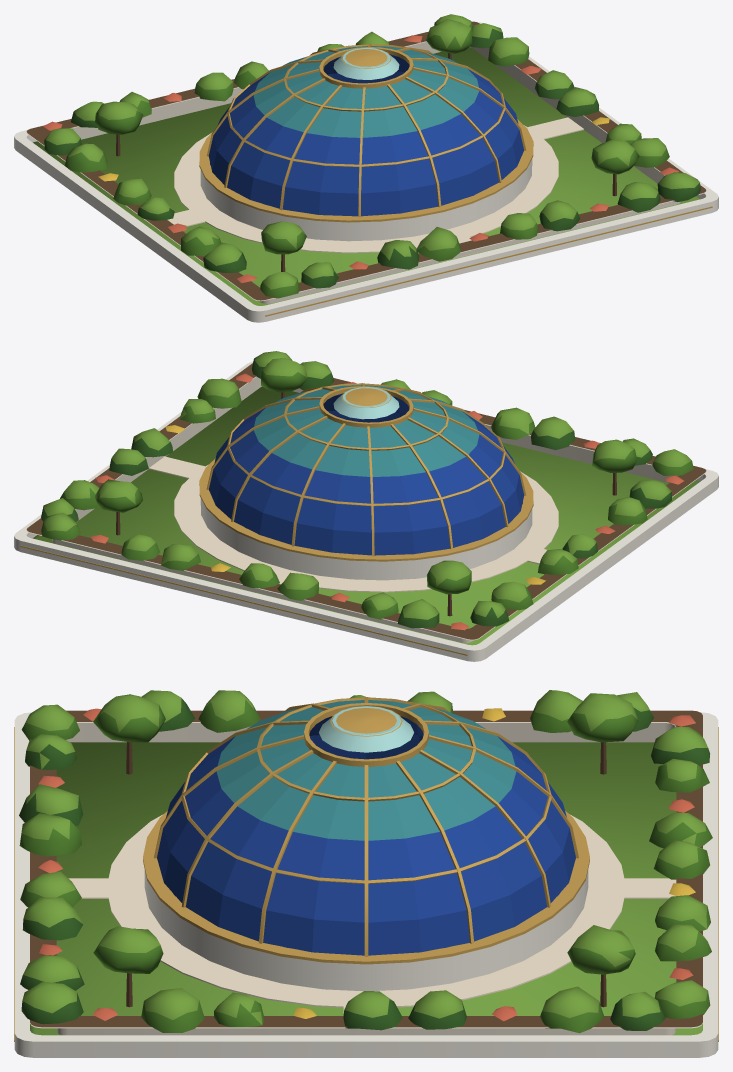
Rendered from lib_roof.glb.
The picture shows the model from 3 angles, top to bottom: view 1: azimuth 30°, elevation 25°; view 2: azimuth 150°, elevation 25°; view 3: azimuth 270°, elevation 25°; orthographic projection. The views are drawn at different scales.
Parts seen in each view (by area): view 1: roof; view 2: roof; view 3: roof.
Boxes of the visible parts, x1=… form: roof: x1=14, y1=14, x2=718, y2=322; roof: x1=14, y1=351, x2=718, y2=661; roof: x1=14, y1=690, x2=718, y2=1057.
Bounding box in the file's own units: 20.4 × 5.21 × 18.44.
